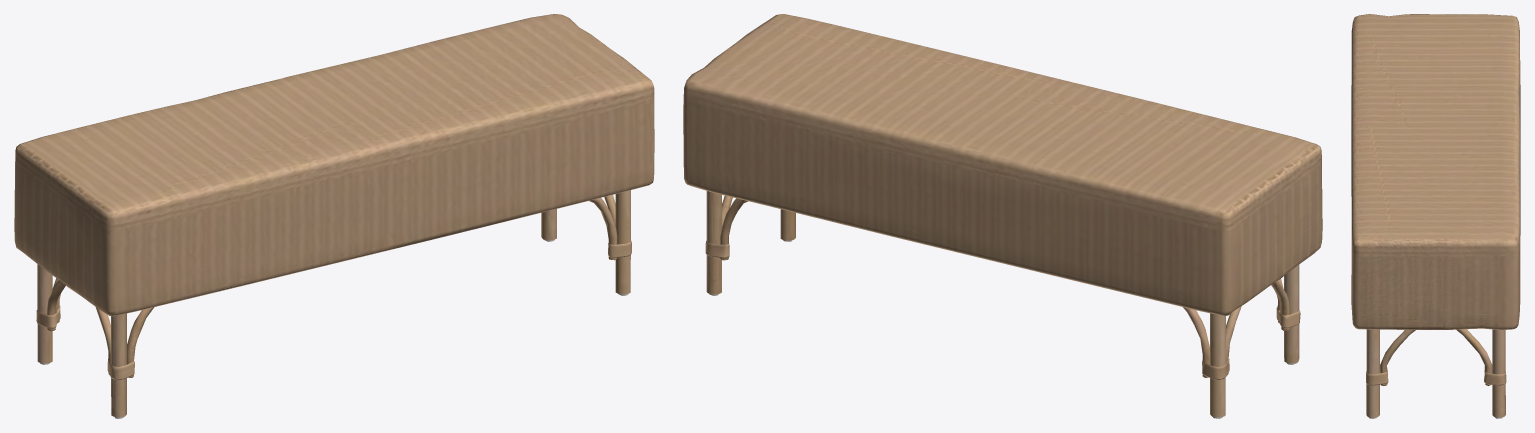
File: LB-BENCH-05.glb
3 renders of one model, left to right at view 1: azimuth 30°, elevation 25°; view 2: azimuth 150°, elevation 25°; view 3: azimuth 270°, elevation 25°, orthographic. The views are drawn at different scales.
Visible parts, largest first — view 1: ASY_ART_80512657_S01_NV01; view 2: ASY_ART_80512657_S01_NV01; view 3: ASY_ART_80512657_S01_NV01.
Boxes of the visible parts, box(x1,y1,x2,y2) form: ASY_ART_80512657_S01_NV01: box(14, 14, 654, 418); ASY_ART_80512657_S01_NV01: box(683, 14, 1322, 418); ASY_ART_80512657_S01_NV01: box(1351, 14, 1520, 418).
Bounding box in the file's own units: 1.2 × 0.4551 × 0.3744.
1 material, 1 textured.
